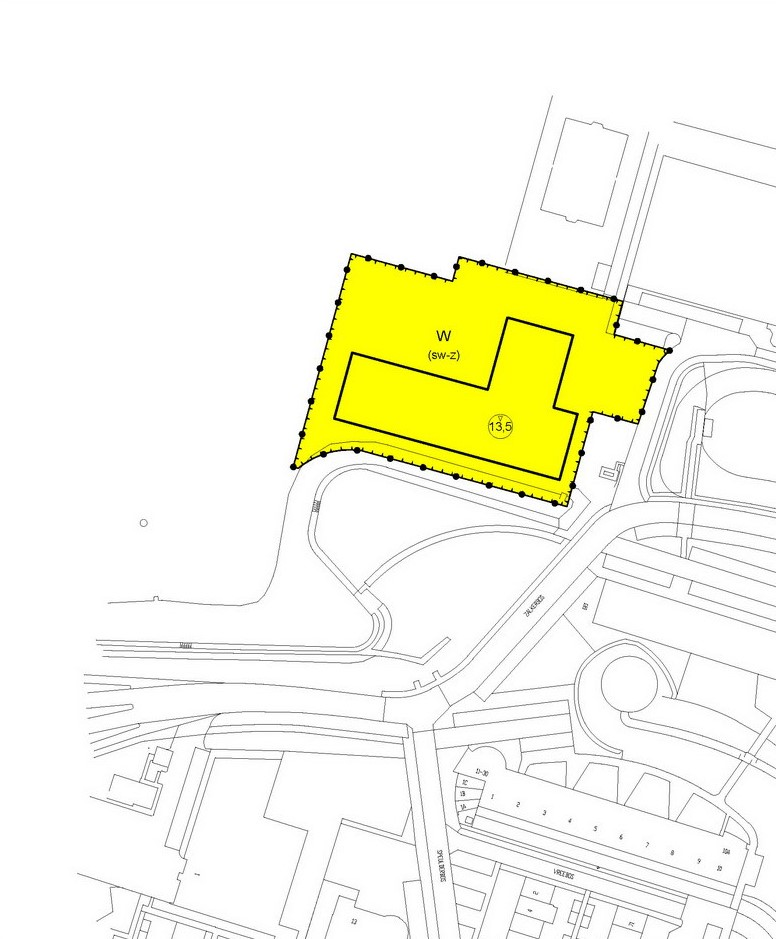Bestemming: (429, 323, 459, 346)
Goothoogte: (488, 418, 513, 434)
Waardes: (486, 411, 517, 440)
